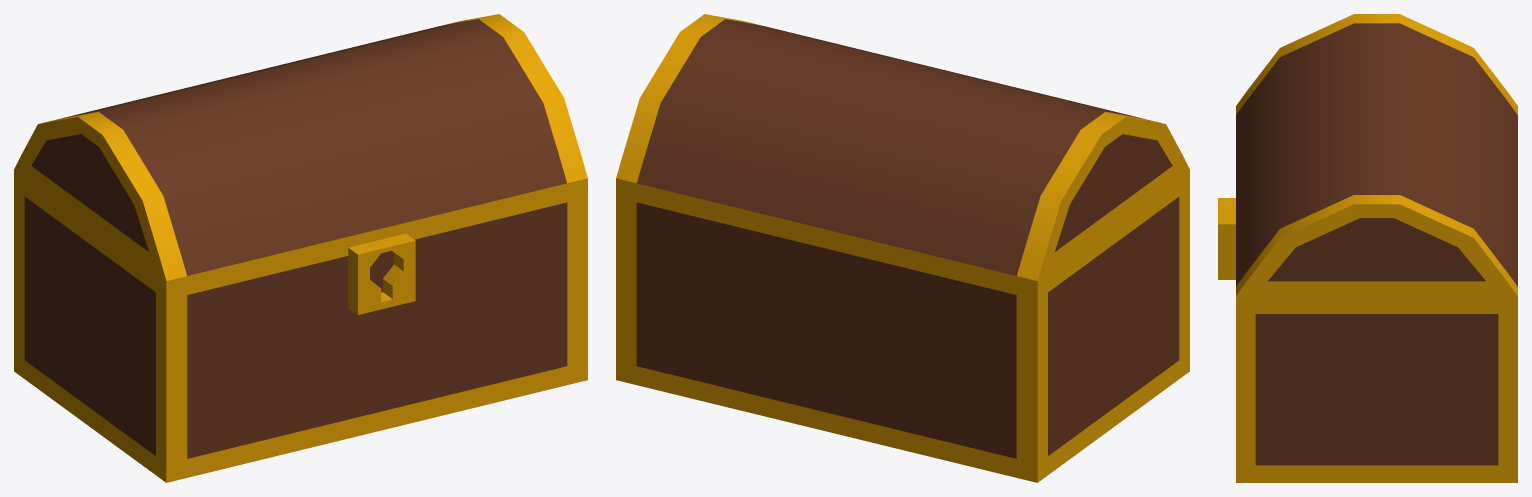
Rendered from ChestClosed.fbx.
The picture shows the model from 3 angles, left to right: view 1: azimuth 30°, elevation 25°; view 2: azimuth 150°, elevation 25°; view 3: azimuth 270°, elevation 25°; orthographic projection. The views are drawn at different scales.
Parts seen in each view (by area): view 1: ChestClosed; view 2: ChestClosed; view 3: ChestClosed.
Part boxes in pixels (<box>): ChestClosed: <box>14,14,587,482</box>; ChestClosed: <box>616,14,1189,482</box>; ChestClosed: <box>1218,14,1517,482</box>.
Bounding box in the file's own units: 319 × 218 × 212.
